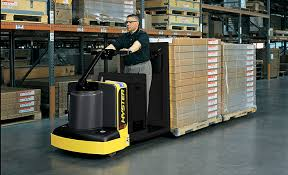Pallet Jack: (48, 43, 222, 158)
